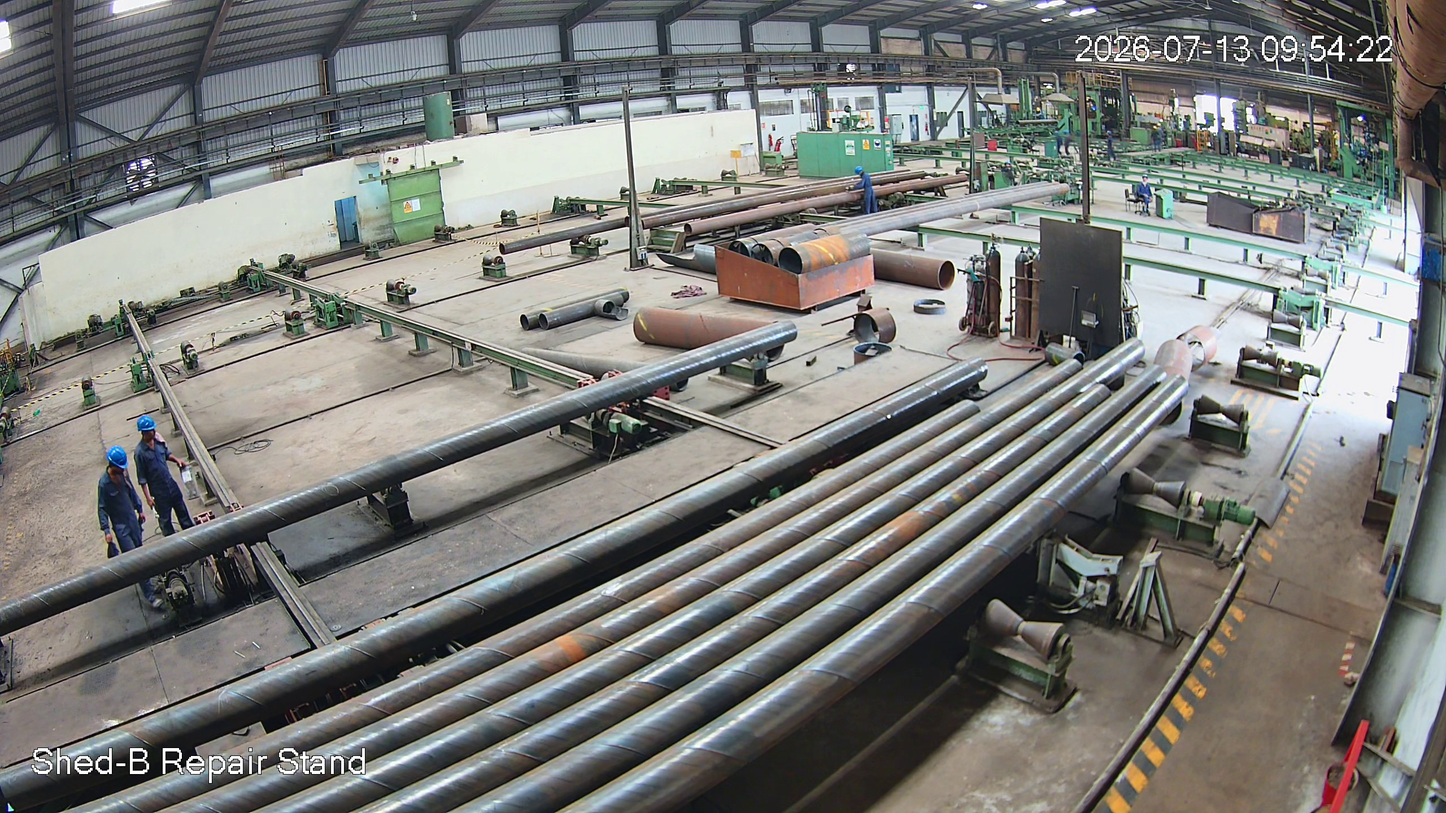Helmet: (103, 441, 139, 482), (132, 409, 163, 450), (853, 164, 865, 178)
Person: (130, 415, 198, 539), (86, 443, 146, 562), (853, 165, 880, 215)
